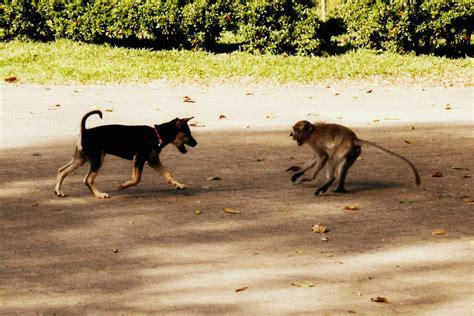dog: (54, 110, 196, 197)
monkey: (290, 121, 421, 194)
